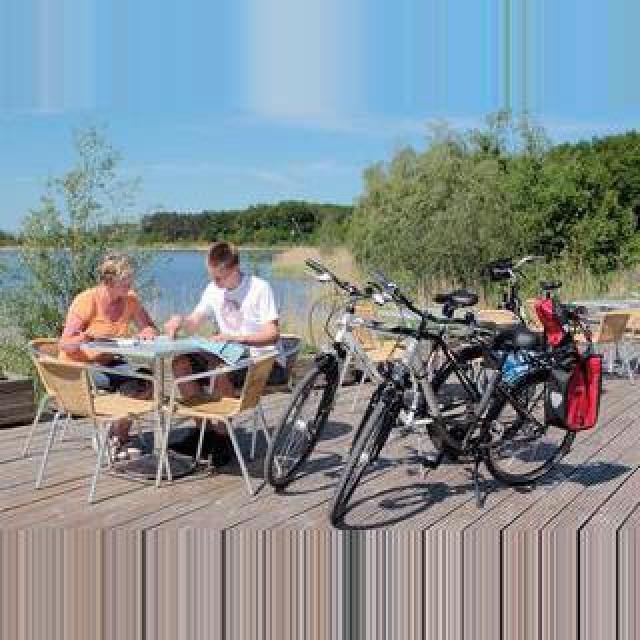MC-Bike: (162, 242, 284, 410), (60, 254, 162, 400)
Person: (317, 267, 599, 517), (266, 259, 458, 499)
